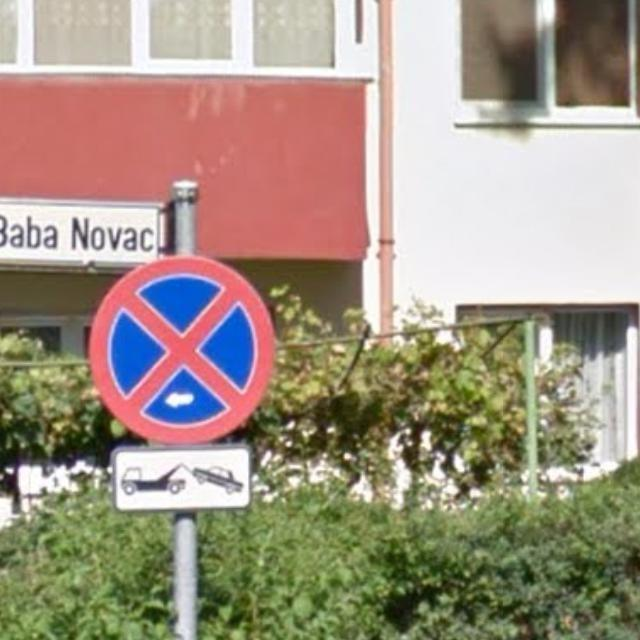forb_waiting: (88, 256, 277, 444)
